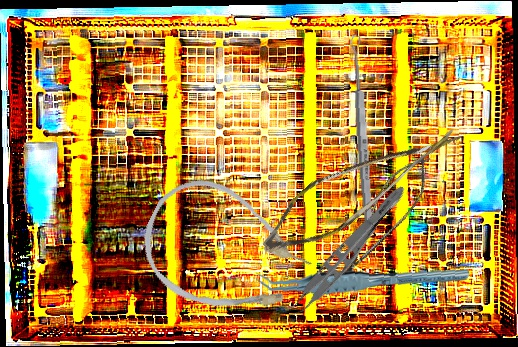Cannula: (125, 162, 326, 343)
Micro Scissor: (253, 87, 463, 284), (326, 144, 442, 295)
Surgical Spoon: (349, 33, 375, 225)
Tissue Forceps: (279, 174, 410, 327), (254, 253, 470, 306)
